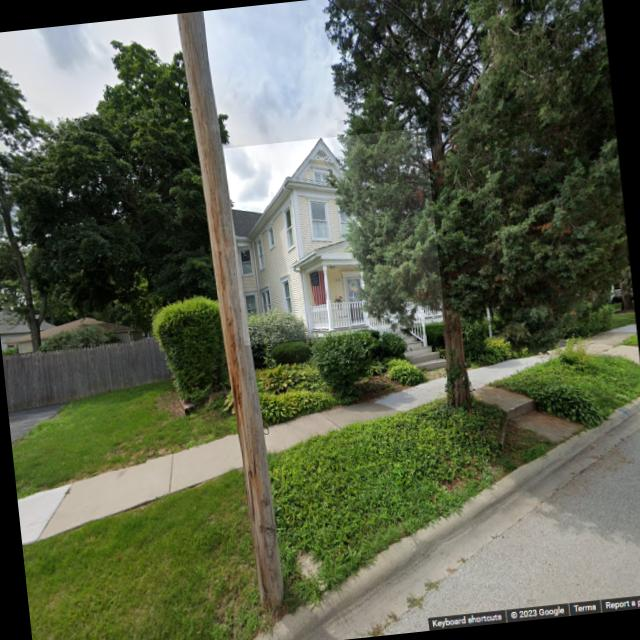House: (224, 127, 445, 345)
